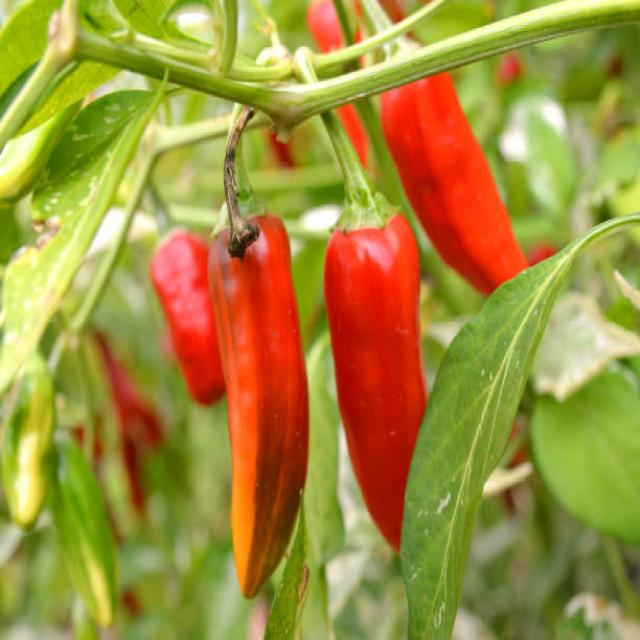Ripe: (209, 216, 307, 597), (324, 214, 427, 550), (381, 72, 527, 294)
